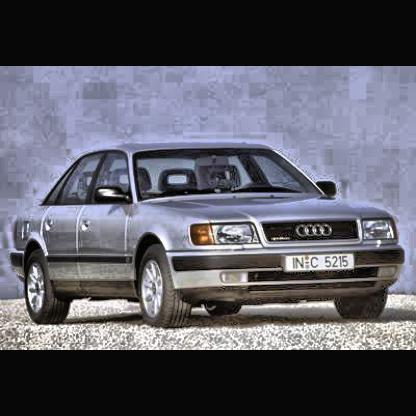Audi 100 Sedan 1994: (12, 143, 408, 331)
